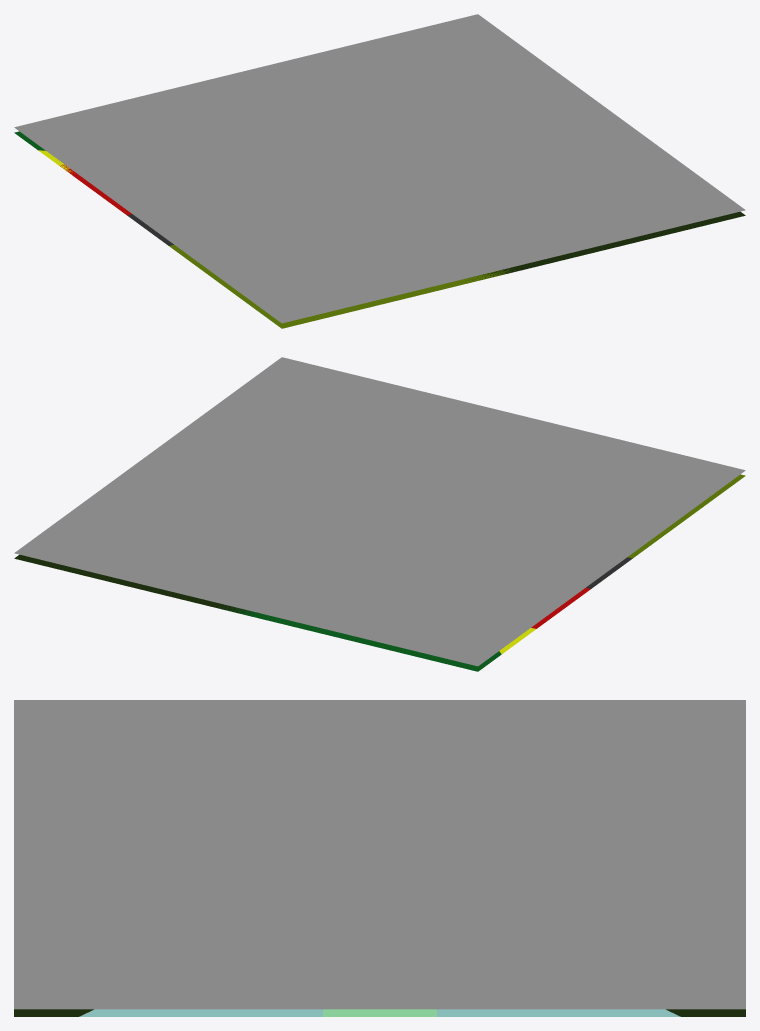
Rendered from RT LINE V01 T02 SNAP.FBX.
The picture shows the model from 3 angles, top to bottom: view 1: azimuth 30°, elevation 25°; view 2: azimuth 150°, elevation 25°; view 3: azimuth 270°, elevation 25°; orthographic projection. The views are drawn at different scales.
Parts seen in each view (by area): view 1: RT LINE V01 T02 SNAP, RT LINE V01 NAV Grass.Conc, RT LINE V01 T02; view 2: RT LINE V01 T02 SNAP, RT LINE V01 NAV Grass, RT LINE V01 T02, RT LINE V01 NAV Grass.Conc; view 3: RT LINE V01 T02 SNAP, RT LINE V01 T02, RT LINE V01 T02 NoGrass.
Part boxes in pixels (x1,y1,x2,y2): RT LINE V01 T02 SNAP: (14,14,745,323); RT LINE V01 NAV Grass.Conc: (169,245,515,328); RT LINE V01 T02: (468,211,745,280); RT LINE V01 T02 SNAP: (14,357,745,666); RT LINE V01 NAV Grass: (214,606,501,671); RT LINE V01 T02: (14,554,262,618); RT LINE V01 NAV Grass.Conc: (627,474,745,558); RT LINE V01 T02 SNAP: (14,700,745,1009); RT LINE V01 T02: (14,1009,745,1016); RT LINE V01 T02 NoGrass: (160,1009,599,1016).
Size of the model in its own units: 90 by 1 by 90.
